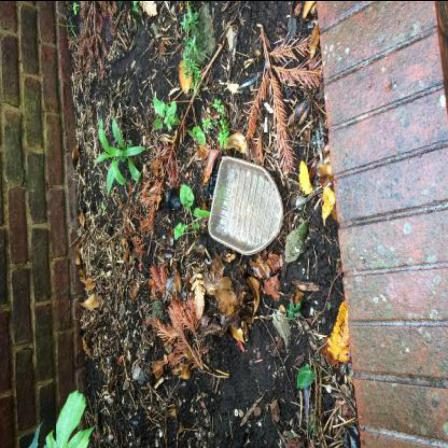Other plastic: (166, 189, 184, 212), (209, 170, 220, 198)
Plastic bag - wrapper: (238, 73, 262, 91), (317, 128, 325, 164)
Plastic container: (209, 156, 285, 255)
